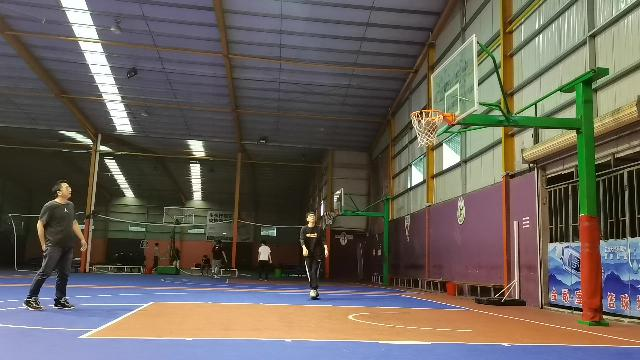basket: (410, 108, 444, 146), (324, 209, 336, 224)
goal: (418, 119, 438, 137)
